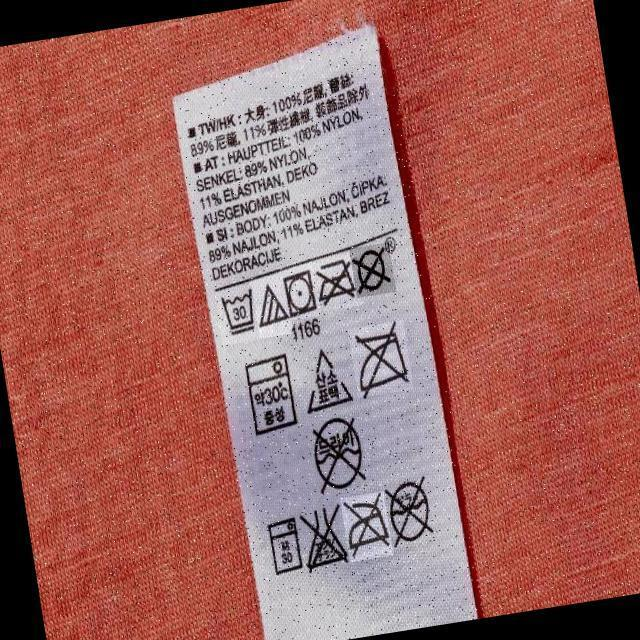30C: (244, 350, 298, 440), (268, 513, 302, 576), (223, 286, 256, 338)
DN_dry_clean: (304, 412, 373, 494), (389, 477, 440, 551), (356, 248, 390, 298)
DN_iron: (354, 324, 414, 398), (347, 493, 389, 558), (319, 252, 356, 305)
non_chlorine_bleach: (308, 352, 352, 414), (259, 282, 286, 327)
tumble_dry_low: (286, 268, 315, 319)
